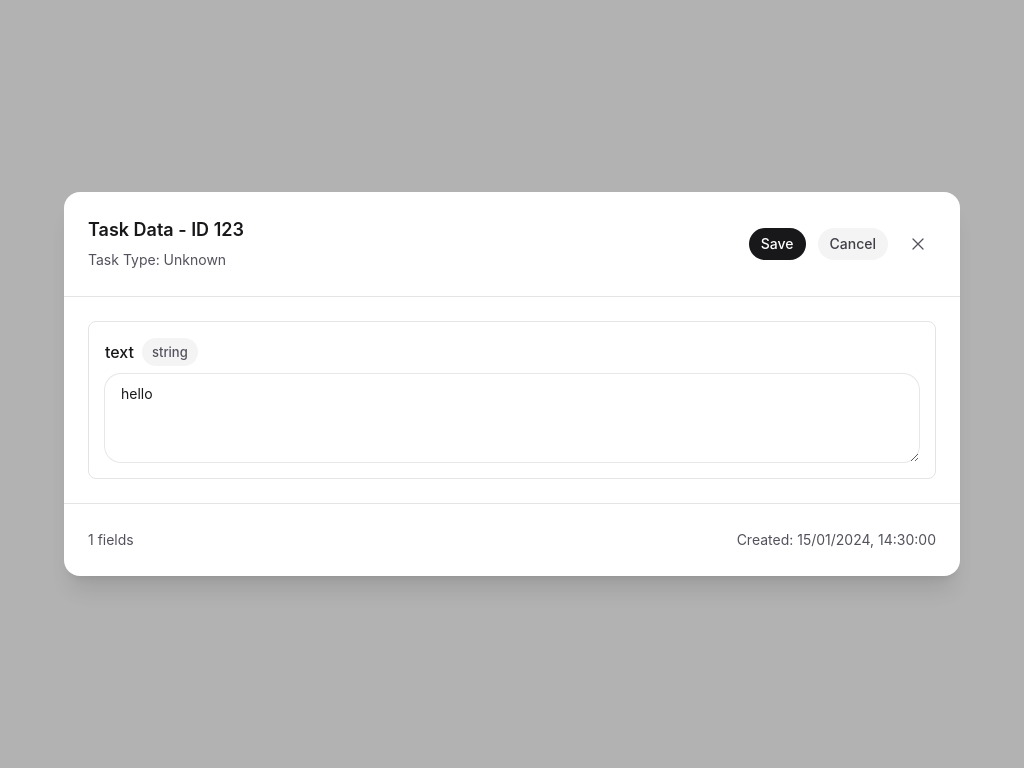
Test: TaskDataViewModal › should surface a server error when the save request fails
# A field must actually change — unchanged saves never hit the API.
Replace the text in the text box with "changed value". click: (512, 418)
box: [105,374,919,462]
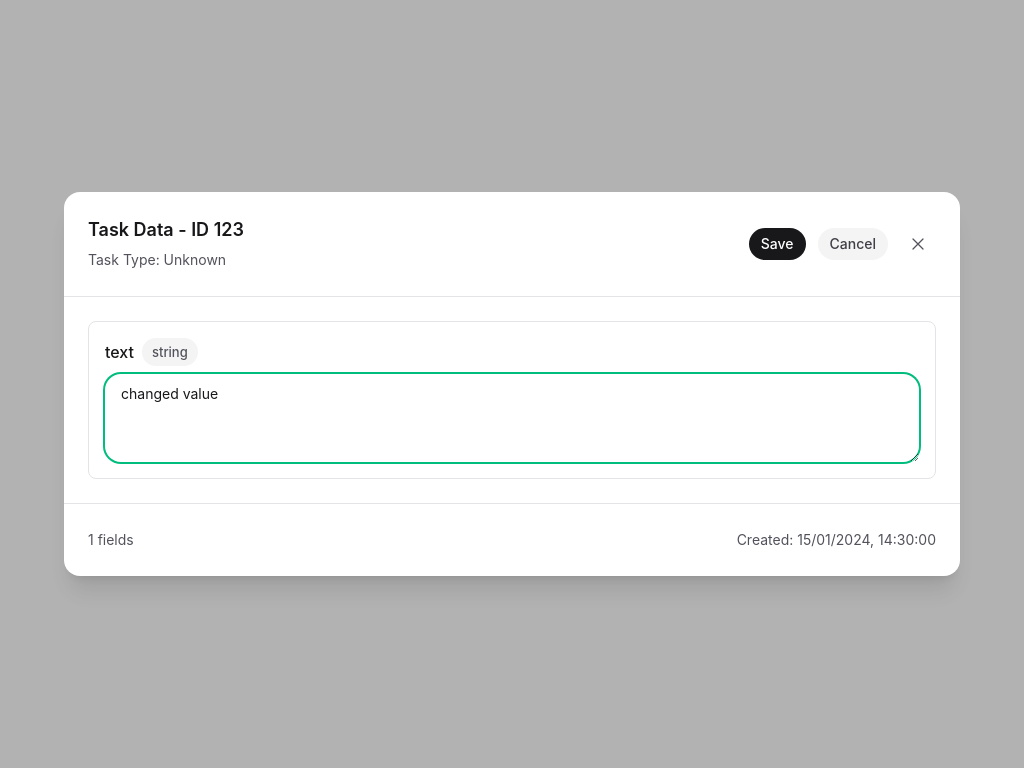
Click the button "Save". click: (777, 244)
box: [749,228,806,260]
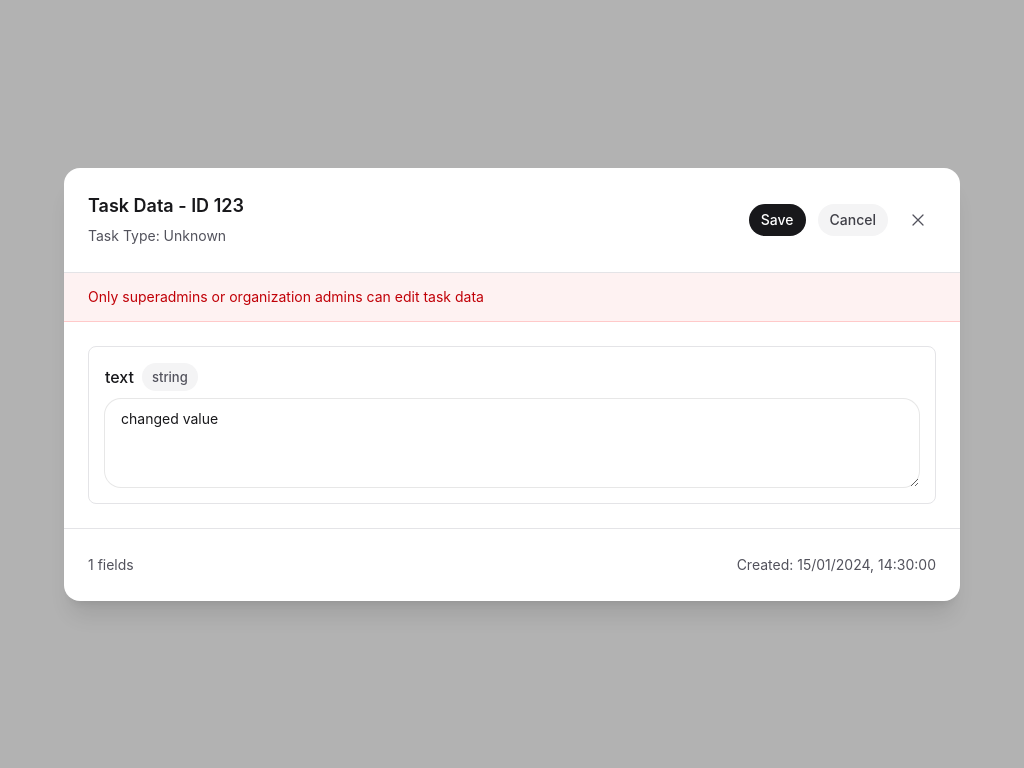
Check: the button "Save" is shown, box [749,204,806,236]
Check: the text "Only superadmins or organization admins can edit task data" is shown, box [64,272,960,322]
